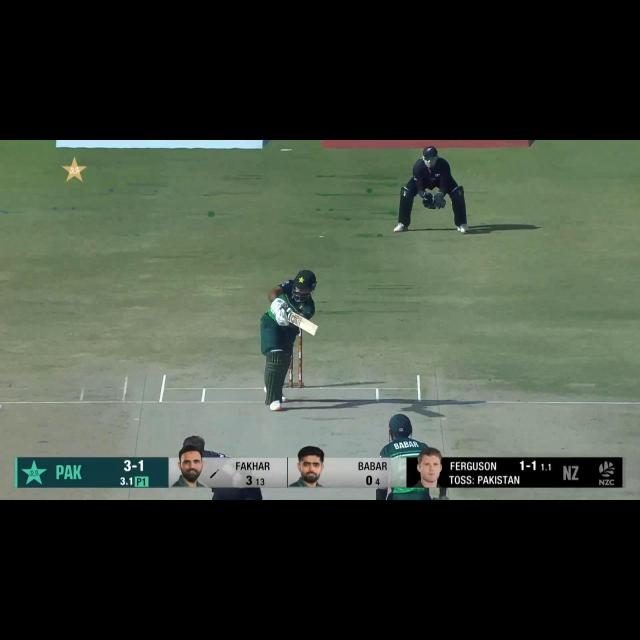bat: (286, 311, 321, 335)
toe: (307, 322, 320, 338)
